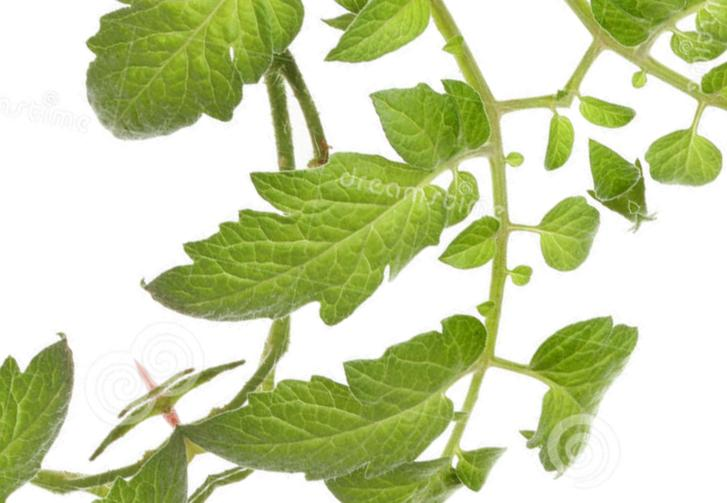Tomato leaf: (103, 22, 579, 430), (184, 237, 594, 503), (0, 0, 375, 222), (300, 0, 466, 98)
